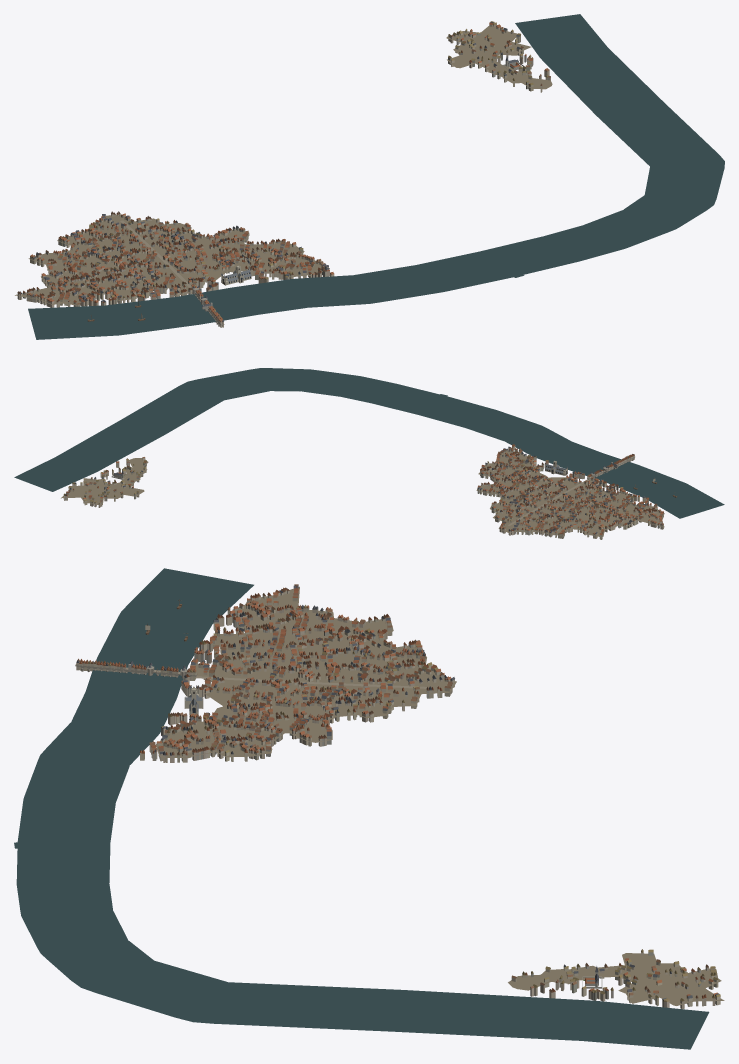
Rendered from london_siege.glb.
3 renders of one model, top to bottom at view 1: azimuth 30°, elevation 25°; view 2: azimuth 150°, elevation 25°; view 3: azimuth 270°, elevation 25°, orthographic. The views are drawn at different scales.
Parts seen in each view (by area): view 1: ground, houses, landmarks; view 2: ground, houses, landmarks; view 3: ground, houses, landmarks.
Part boxes in pixels (bbox=[...]): ground: bbox=[15, 14, 724, 339]; houses: bbox=[17, 21, 550, 307]; landmarks: bbox=[87, 56, 524, 327]; ground: bbox=[14, 368, 724, 537]; houses: bbox=[63, 444, 663, 539]; landmarks: bbox=[111, 454, 677, 497]; ground: bbox=[14, 568, 724, 1049]; houses: bbox=[139, 584, 720, 1009]; landmarks: bbox=[75, 599, 602, 988].
Size of the model in its own units: 3438 by 75.96 by 2146.
